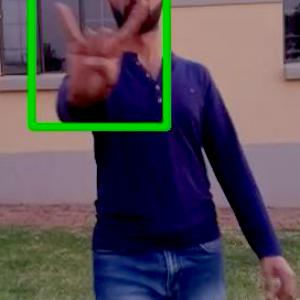takeoff-hand: (51, 0, 152, 109)
